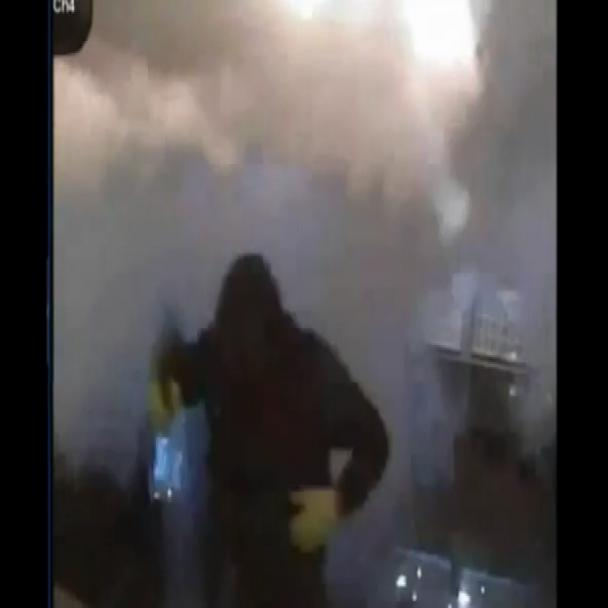smoke: (54, 0, 538, 596)
